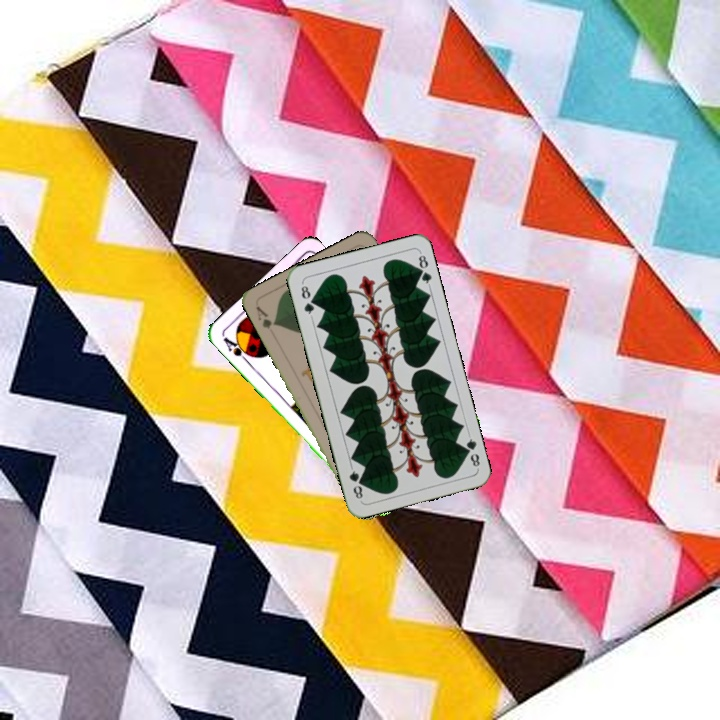G8: (459, 431, 483, 469), (297, 280, 317, 320)
GA: (252, 302, 279, 332)
SA: (219, 333, 255, 365)
